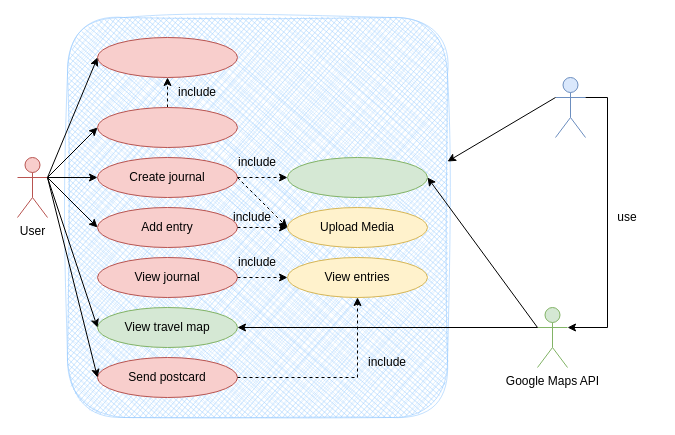
Some shapes in this 675 by 435 pixel diagram are drawn without their labels. The shapes that lost their labels are listed below. From the top down, each one's box as (x1, y1, x2, y2) in pixels, then its label:
(96, 36, 238, 78): Log In
(96, 106, 238, 148): Register
(554, 76, 586, 138): System
(286, 156, 428, 198): Pin location on map
